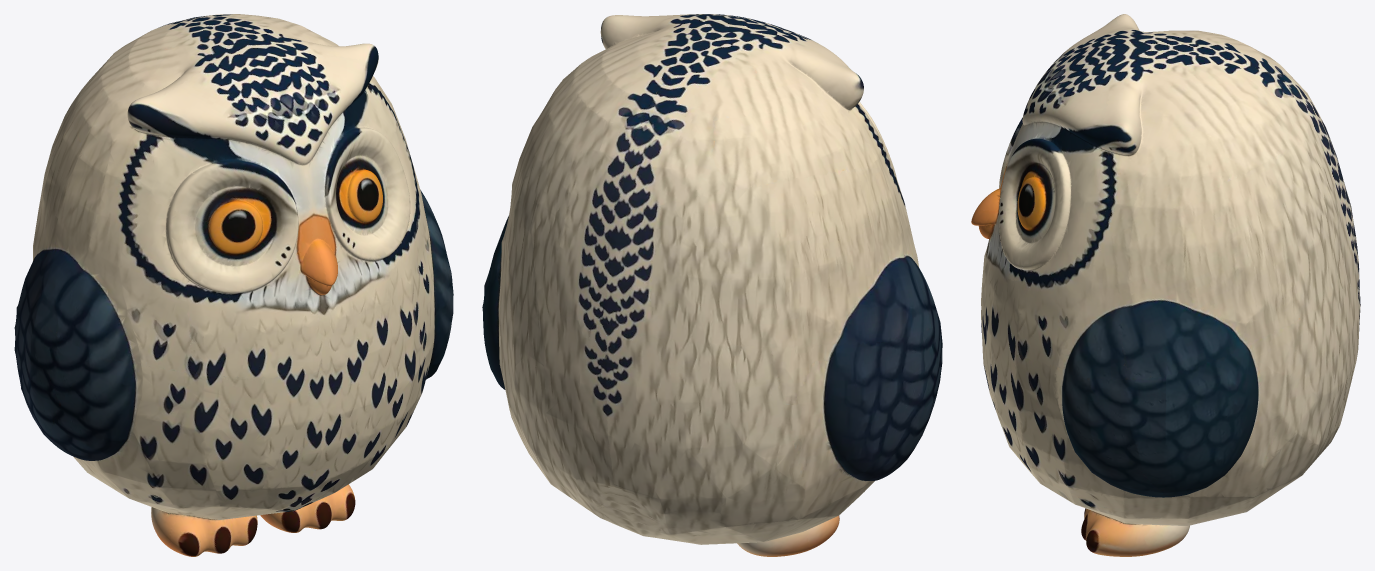
The model's file is owl-soft-warn.glb.
The picture shows the model from 3 angles, left to right: view 1: azimuth 30°, elevation 25°; view 2: azimuth 150°, elevation 25°; view 3: azimuth 270°, elevation 25°; orthographic projection. The views are drawn at different scales.
Visible parts, largest first — view 1: mesh_node; view 2: mesh_node; view 3: mesh_node.
Boxes of the visible parts, box(x1,y1,x2,y2) form: mesh_node: box(14, 14, 453, 556); mesh_node: box(482, 14, 942, 556); mesh_node: box(971, 14, 1360, 556).
Size of the model in its own units: 1.67 by 1.9 by 1.42.
Materials: 1 (1 with a texture image).
